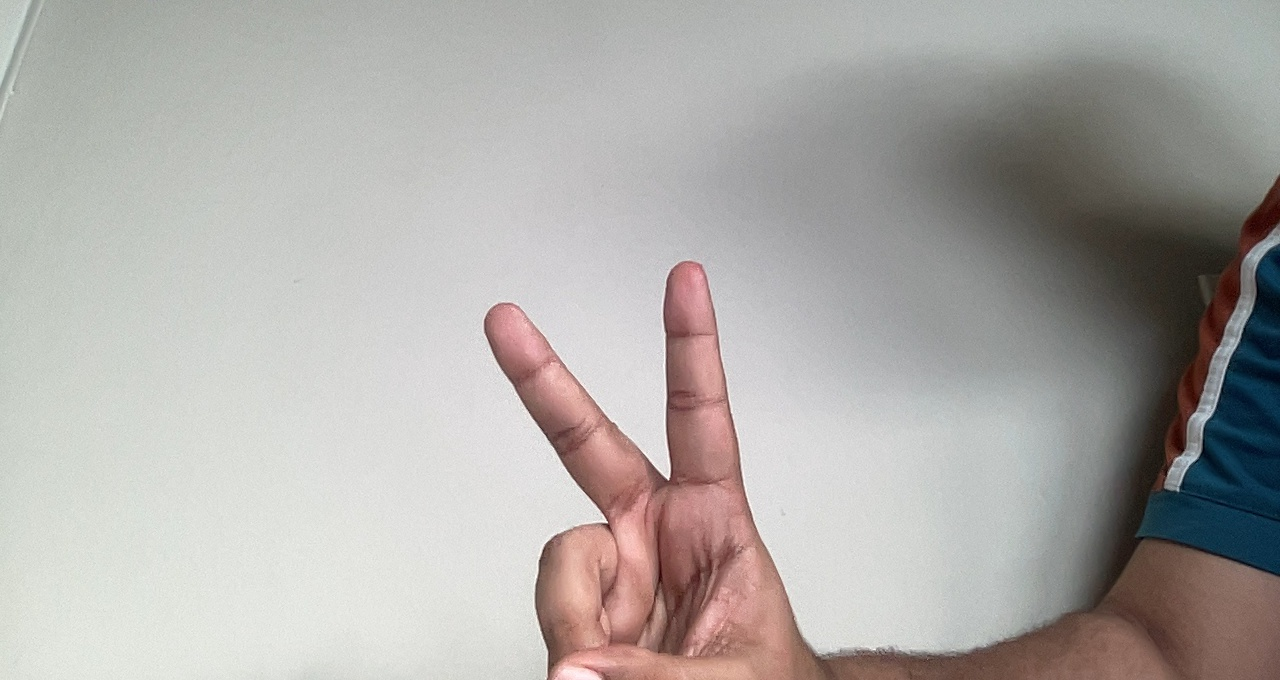peace sign: (469, 251, 823, 674)
